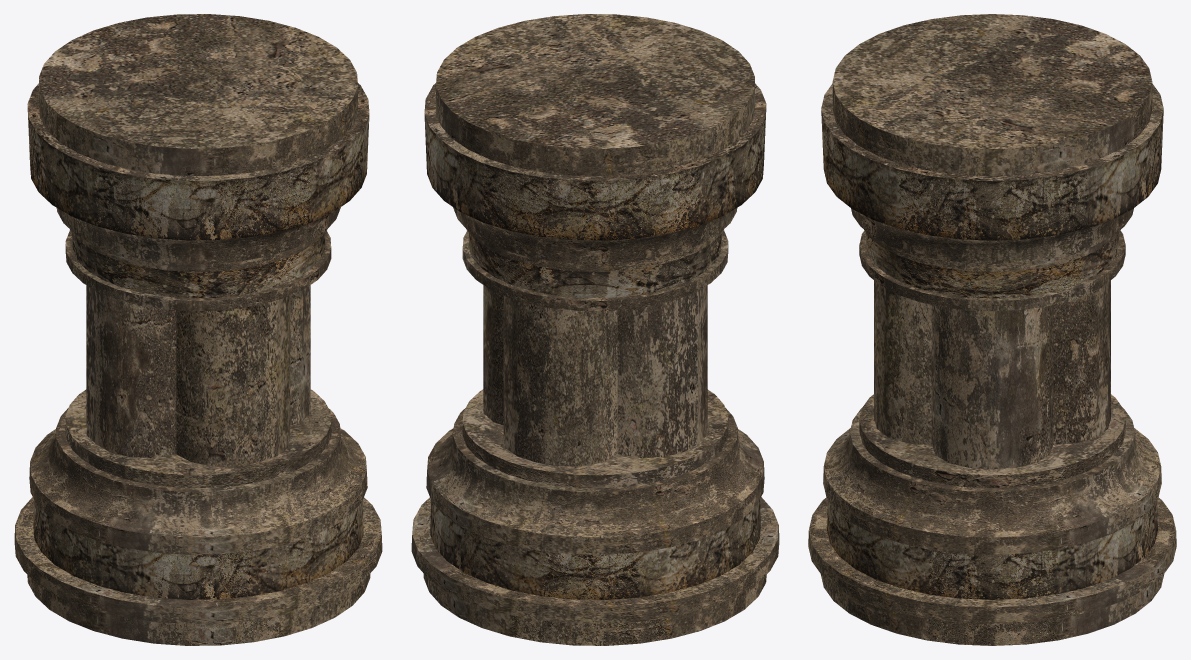
The model's file is materials_5_pillar_short_10.fbx.
3 renders of one model, left to right at view 1: azimuth 30°, elevation 25°; view 2: azimuth 150°, elevation 25°; view 3: azimuth 270°, elevation 25°, orthographic.
Parts seen in each view (by area): view 1: materials_5_pillar_short_10; view 2: materials_5_pillar_short_10; view 3: materials_5_pillar_short_10.
Part boxes in pixels (x1=…): materials_5_pillar_short_10: x1=14, y1=14, x2=382, y2=645; materials_5_pillar_short_10: x1=411, y1=14, x2=779, y2=645; materials_5_pillar_short_10: x1=808, y1=14, x2=1176, y2=645.
Size of the model in its own units: 38.44 by 56.58 by 38.44.
